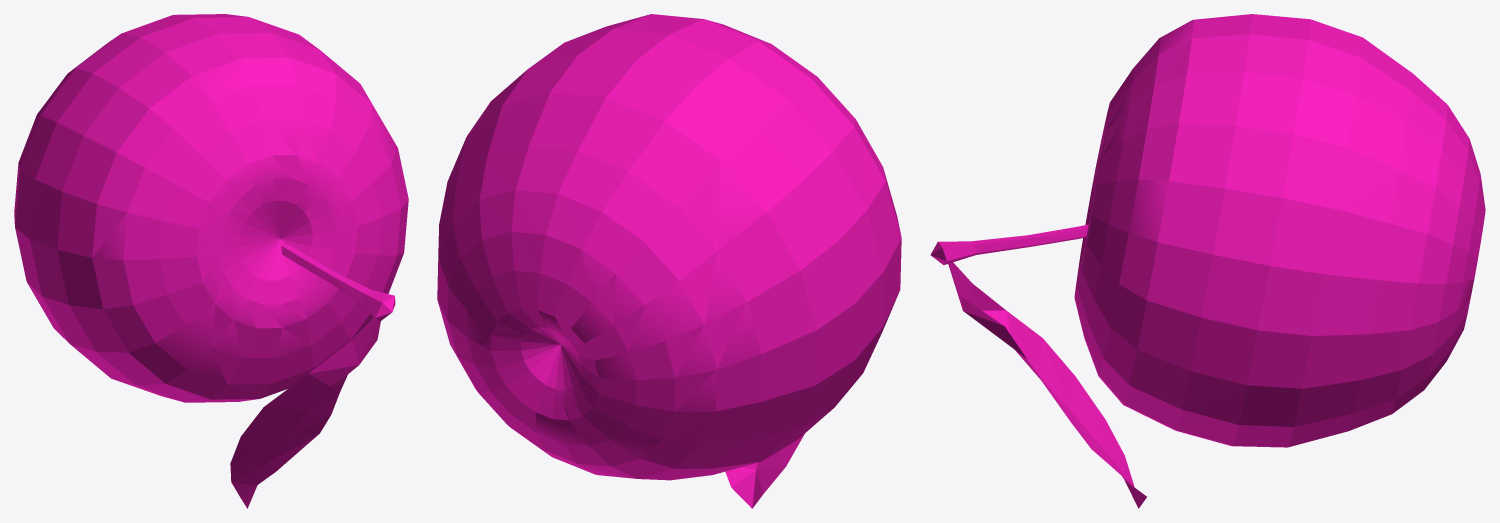
The model's file is apple1_5.dae.
3 renders of one model, left to right at view 1: azimuth 30°, elevation 25°; view 2: azimuth 150°, elevation 25°; view 3: azimuth 270°, elevation 25°, orthographic. The views are drawn at different scales.
Parts seen in each view (by area): view 1: M002004_019; view 2: M002004_019; view 3: M002004_019.
Boxes of the visible parts, bbox=[...] form: M002004_019: bbox=[14, 14, 408, 508]; M002004_019: bbox=[437, 14, 901, 508]; M002004_019: bbox=[930, 14, 1485, 508].
Size of the model in its own units: 0.1 by 0.1266 by 0.1222.
